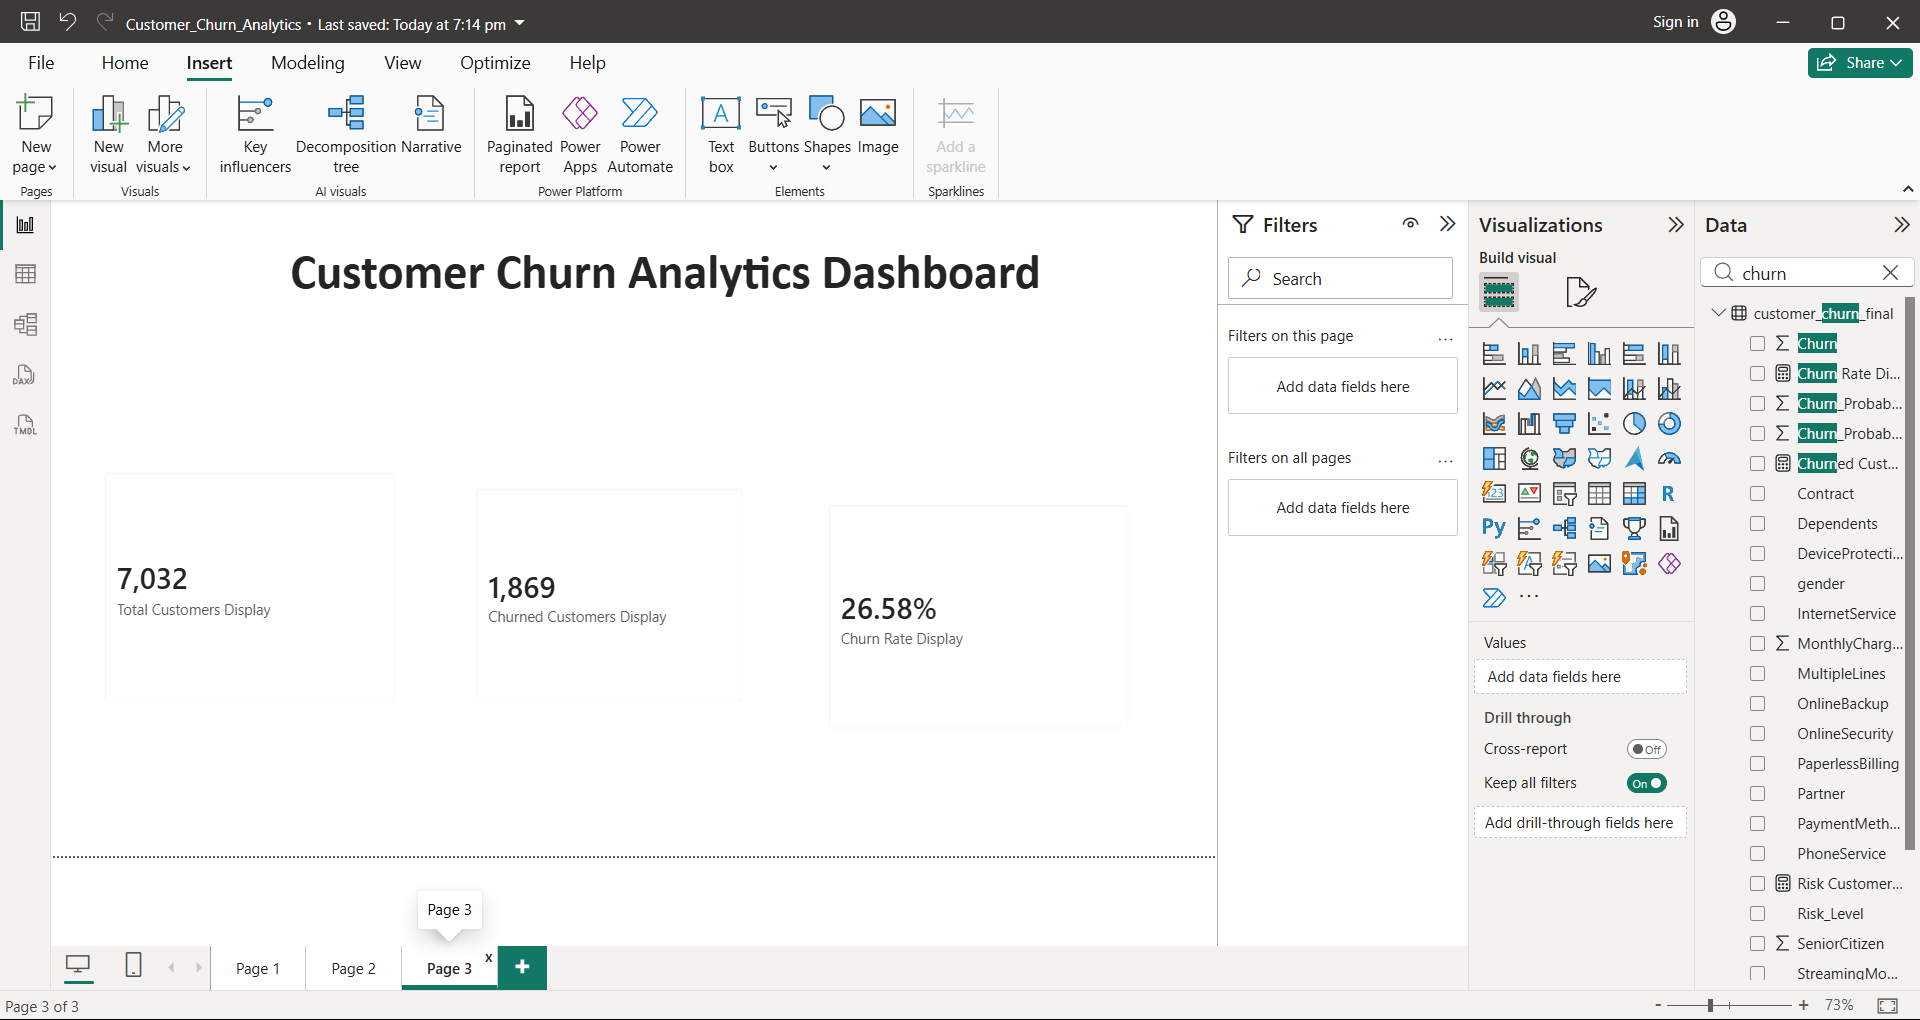

The dashboard page shown, as its layout file describes it:
{"tool":"powerbi","page":{"name":"Page 3","canvas":[1280,720],"ordinal":2},"visuals":[{"type":"cardVisual","fields":{"Data":["customer_churn_final.Total Customers"]},"box":[42.5,282.7,352.7,285.4],"z":0},{"type":"cardVisual","fields":{"Data":["customer_churn_final.Churned Customers Display"]},"box":[450.1,300.5,326.6,267.6],"z":1},{"type":"cardVisual","fields":{"Data":["customer_churn_final.Churn Rate Display"]},"box":[837.1,318.4,363.6,279.9],"z":2},{"type":"textbox","box":[42.5,41.2,1215.8,133.1],"z":3}]}

Visuals, with their boxes on the page's 1280x720 design canvas (x1, y1, x2, y2). These are canvas units, not pixel positions in the 1920x1020 screenshot, which may show the page scaled, cropped or inside an application window:
cardVisual - customer_churn_final.Total Customers: box=[42, 283, 395, 568]
cardVisual - customer_churn_final.Churned Customers Display: box=[450, 300, 777, 568]
cardVisual - customer_churn_final.Churn Rate Display: box=[837, 318, 1201, 598]
textbox: box=[42, 41, 1258, 174]
